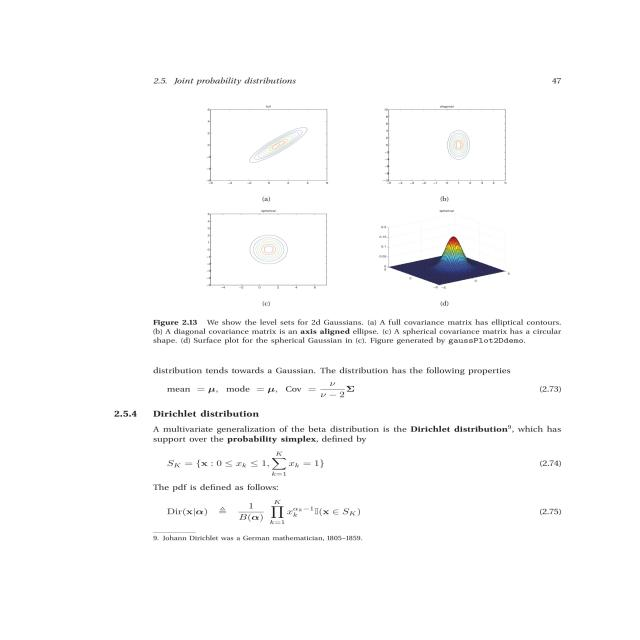diagram: (136, 70, 568, 352)
